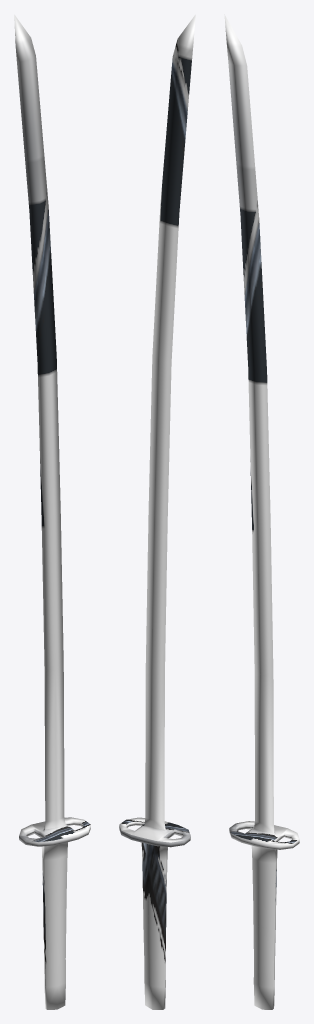
The model's file is Katana.obj.
The picture shows the model from 3 angles, left to right: view 1: azimuth 30°, elevation 25°; view 2: azimuth 150°, elevation 25°; view 3: azimuth 330°, elevation 25°; orthographic projection. The views are drawn at different scales.
Parts seen in each view (by area): view 1: Cube.006; view 2: Cube.006; view 3: Cube.006.
Boxes of the visible parts, left/top/right/bottom form: Cube.006: left=14, top=14, right=90, bottom=1009; Cube.006: left=119, top=14, right=195, bottom=1009; Cube.006: left=224, top=14, right=299, bottom=1009.
Size of the model in its own units: 0.1434 by 1.88 by 0.0755.
